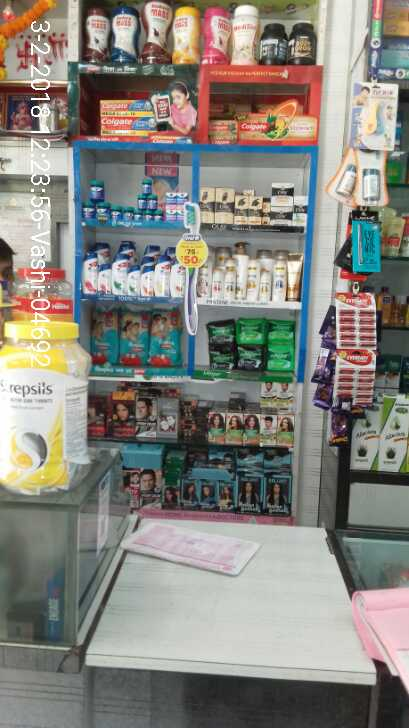beauty: (194, 241, 312, 302), (81, 241, 184, 300), (199, 178, 306, 227)
pharmacy: (70, 174, 190, 222), (207, 313, 289, 373), (144, 303, 185, 370), (95, 300, 124, 373), (113, 305, 146, 365)
